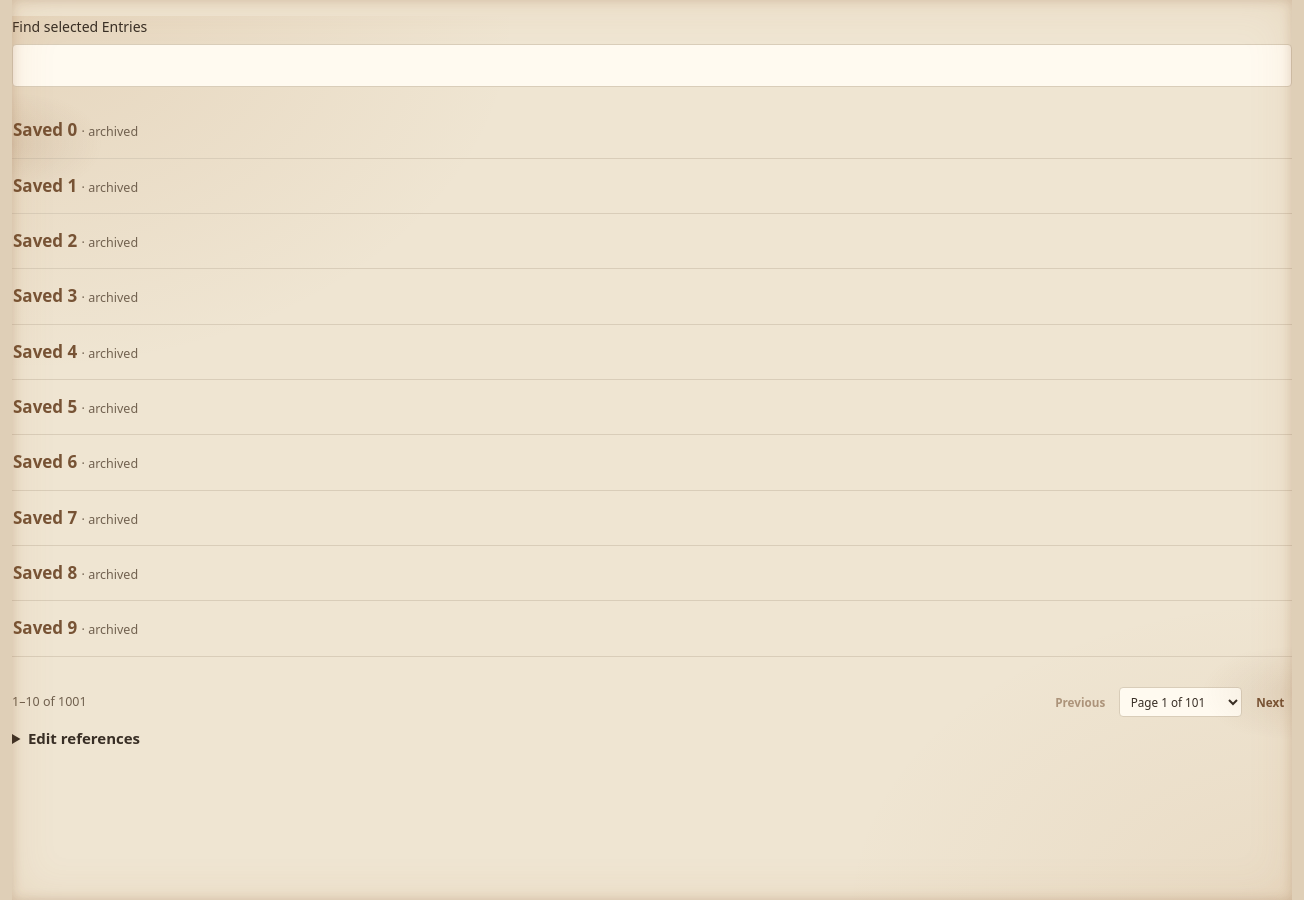
Test: bounds selected references and finds a retained target beyond the first page
The width and height of the screenshot is (1304, 900).
Step 1. Type "Saved 1000" into the search field labelled "Find selected Entries" → (652, 66), box x1=12 y1=44 x2=1292 y2=87
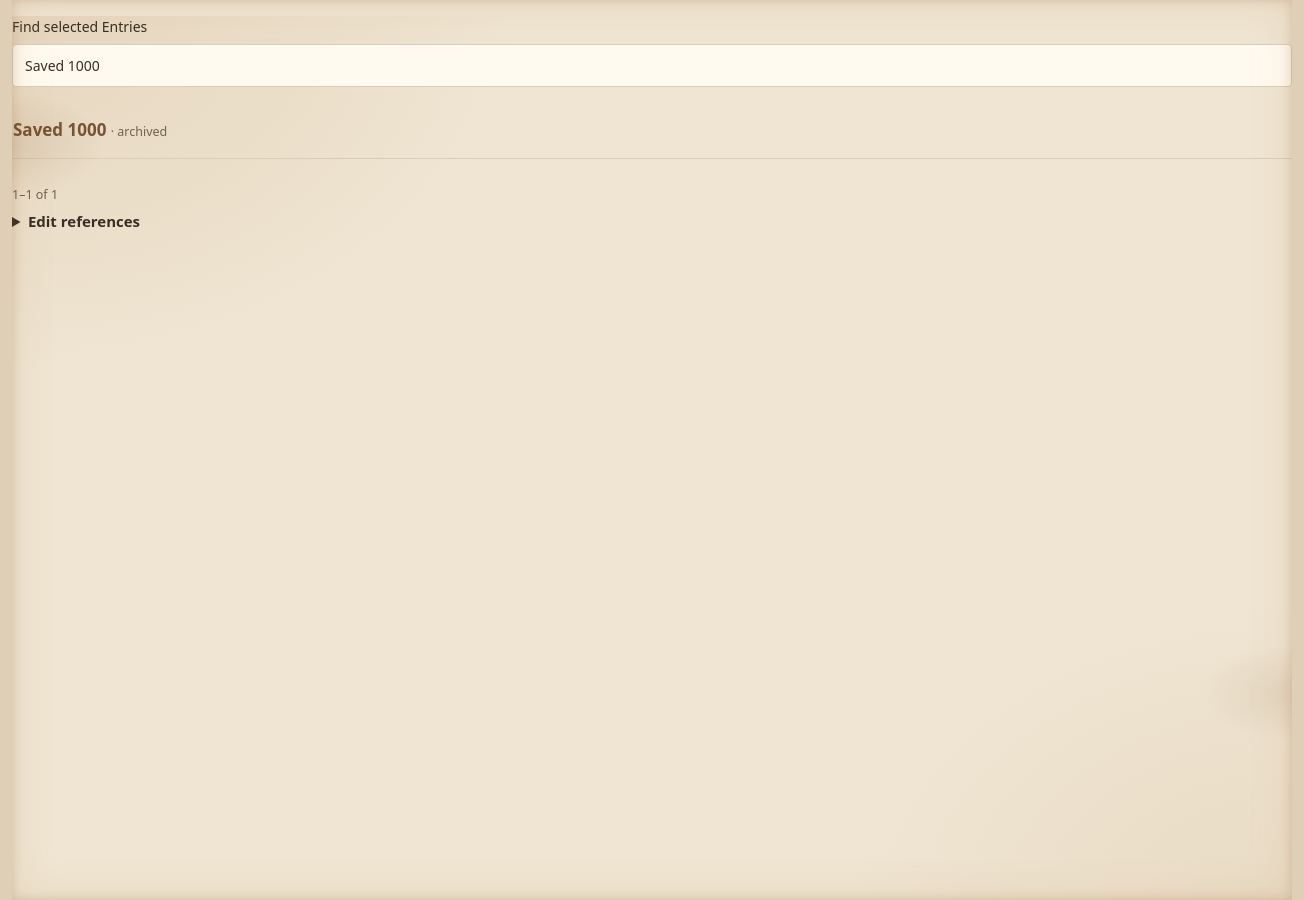
Check: the number of list items is 1, box x1=12 y1=103 x2=1292 y2=159
Check: the button "Saved 1000" is shown, box x1=12 y1=113 x2=107 y2=148
